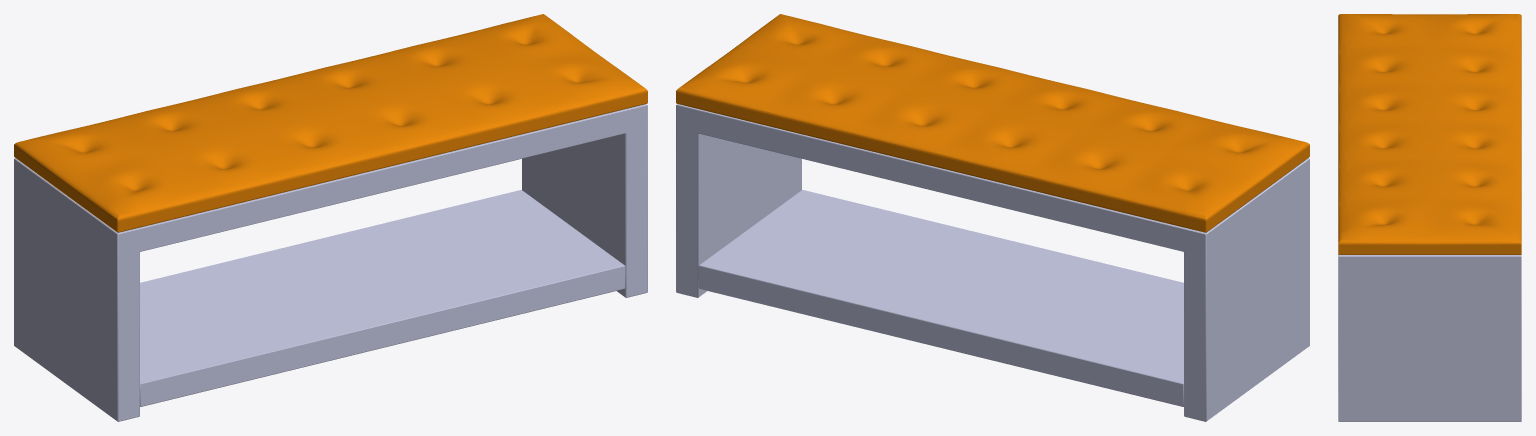
Rendered from SM_seats.fbx.
The picture shows the model from 3 angles, left to right: view 1: azimuth 30°, elevation 25°; view 2: azimuth 150°, elevation 25°; view 3: azimuth 270°, elevation 25°; orthographic projection. The views are drawn at different scales.
Visible parts, largest first — view 1: SM_seats; view 2: SM_seats; view 3: SM_seats.
Boxes of the visible parts, x1,y1,x2,y2 form: SM_seats: (14, 14, 647, 421); SM_seats: (676, 14, 1309, 421); SM_seats: (1338, 14, 1521, 421).
Size of the model in its own units: 118 by 44.98 by 40.
